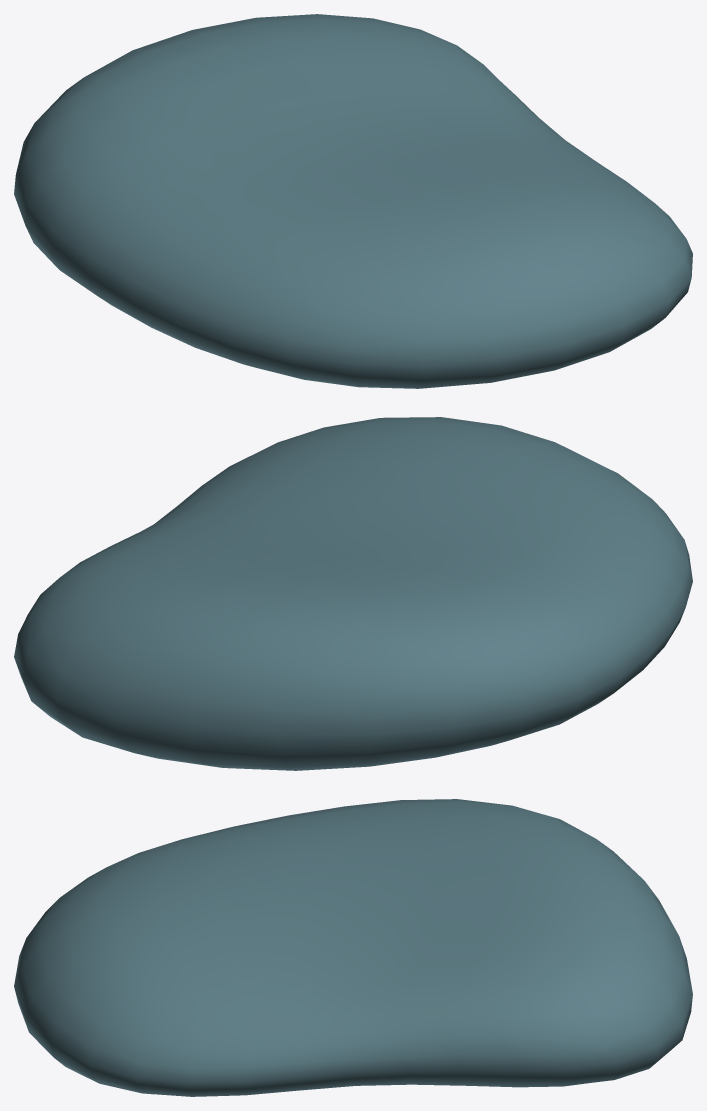
The model's file is Rock_B_03.fbx.
3 views of the same model, one above another, from view 1: azimuth 30°, elevation 25°; view 2: azimuth 150°, elevation 25°; view 3: azimuth 270°, elevation 25° (orthographic). The views are drawn at different scales.
Parts seen in each view (by area): view 1: Rock_B_03_LOD0; view 2: Rock_B_03_LOD0; view 3: Rock_B_03_LOD0.
Part boxes in pixels (x1,y1,x2,y2): Rock_B_03_LOD0: (14, 14, 692, 388); Rock_B_03_LOD0: (14, 417, 692, 770); Rock_B_03_LOD0: (14, 799, 692, 1096).
Size of what is drawn, in the model's own units: 345 by 97.94 by 428.
